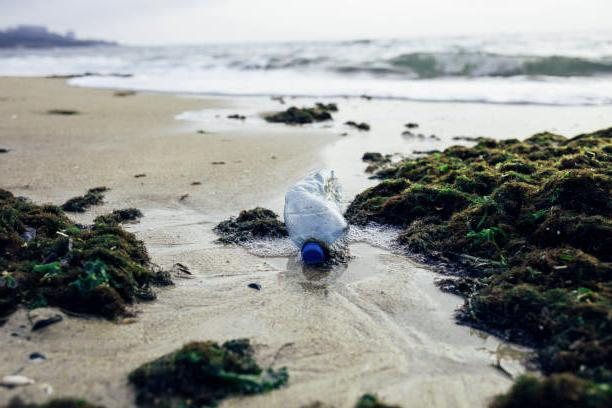Plastic: (279, 169, 359, 274)
